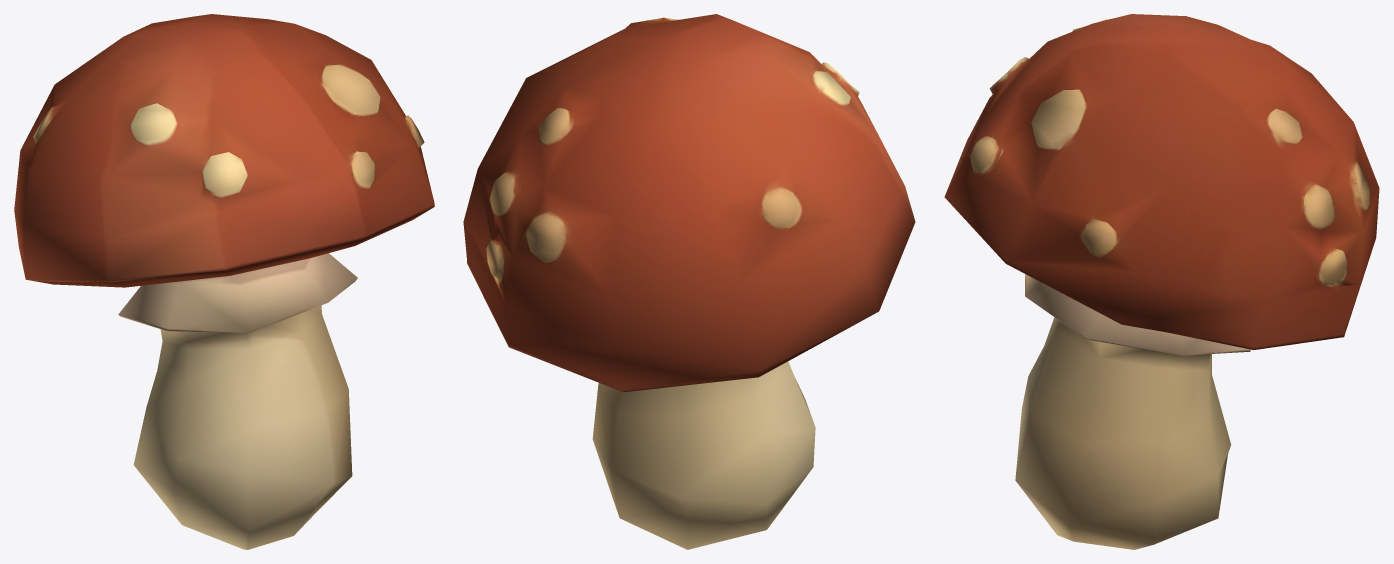
The picture shows the model from 3 angles, left to right: view 1: azimuth 30°, elevation 25°; view 2: azimuth 150°, elevation 25°; view 3: azimuth 270°, elevation 25°; orthographic projection. The views are drawn at different scales.
Parts seen in each view (by area): view 1: forest-mushroom-1; view 2: forest-mushroom-1; view 3: forest-mushroom-1.
Boxes of the visible parts, x1,y1,x2,y2 form: forest-mushroom-1: [14, 14, 434, 549]; forest-mushroom-1: [463, 14, 915, 549]; forest-mushroom-1: [944, 14, 1379, 549].
Bounding box in the file's own units: 0.274 × 0.3307 × 0.2642.
1 material, 1 textured.
